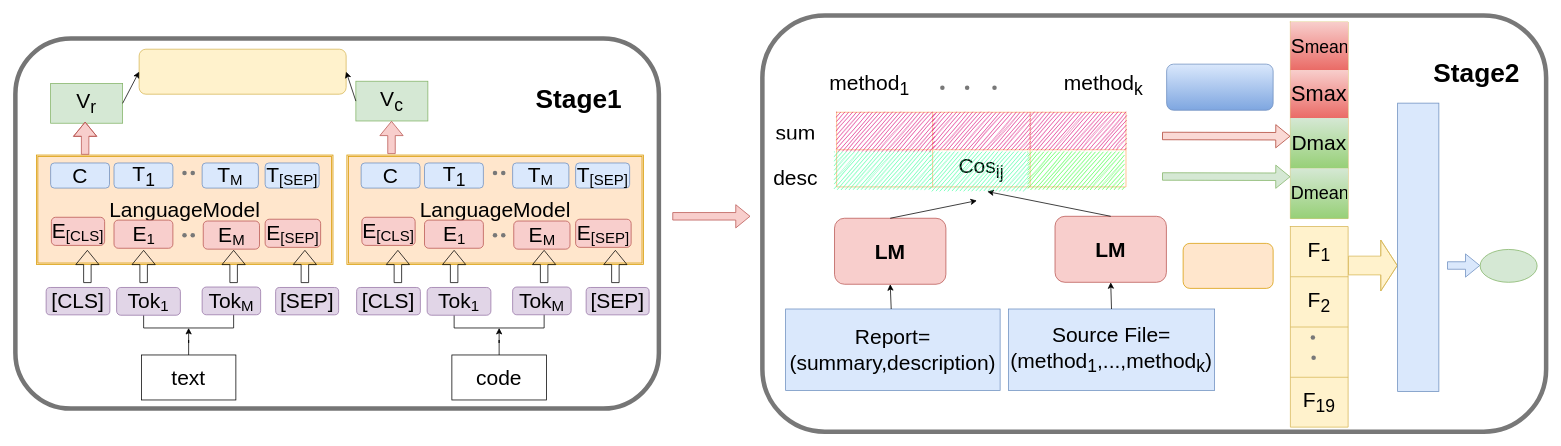
Image size: 1561x446. Some labels were removed from this diagram. Here are the shapes that lost their labels. From the top down, the box of each, then its label:
(138, 48, 346, 94): similarity=cos(V r ,V c )
(1166, 63, 1273, 110): max,mean
(1182, 243, 1273, 288): IR Features
(1397, 102, 1439, 392): LTR
(1479, 249, 1537, 282): score
